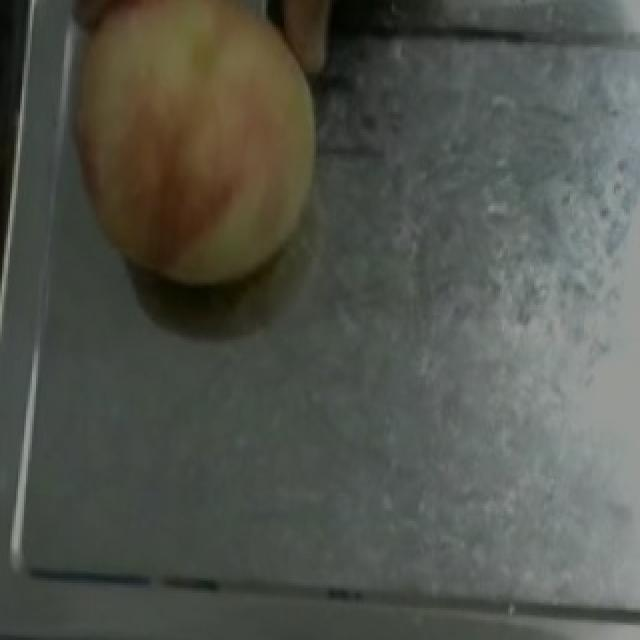Fruit: (38, 0, 334, 308)
